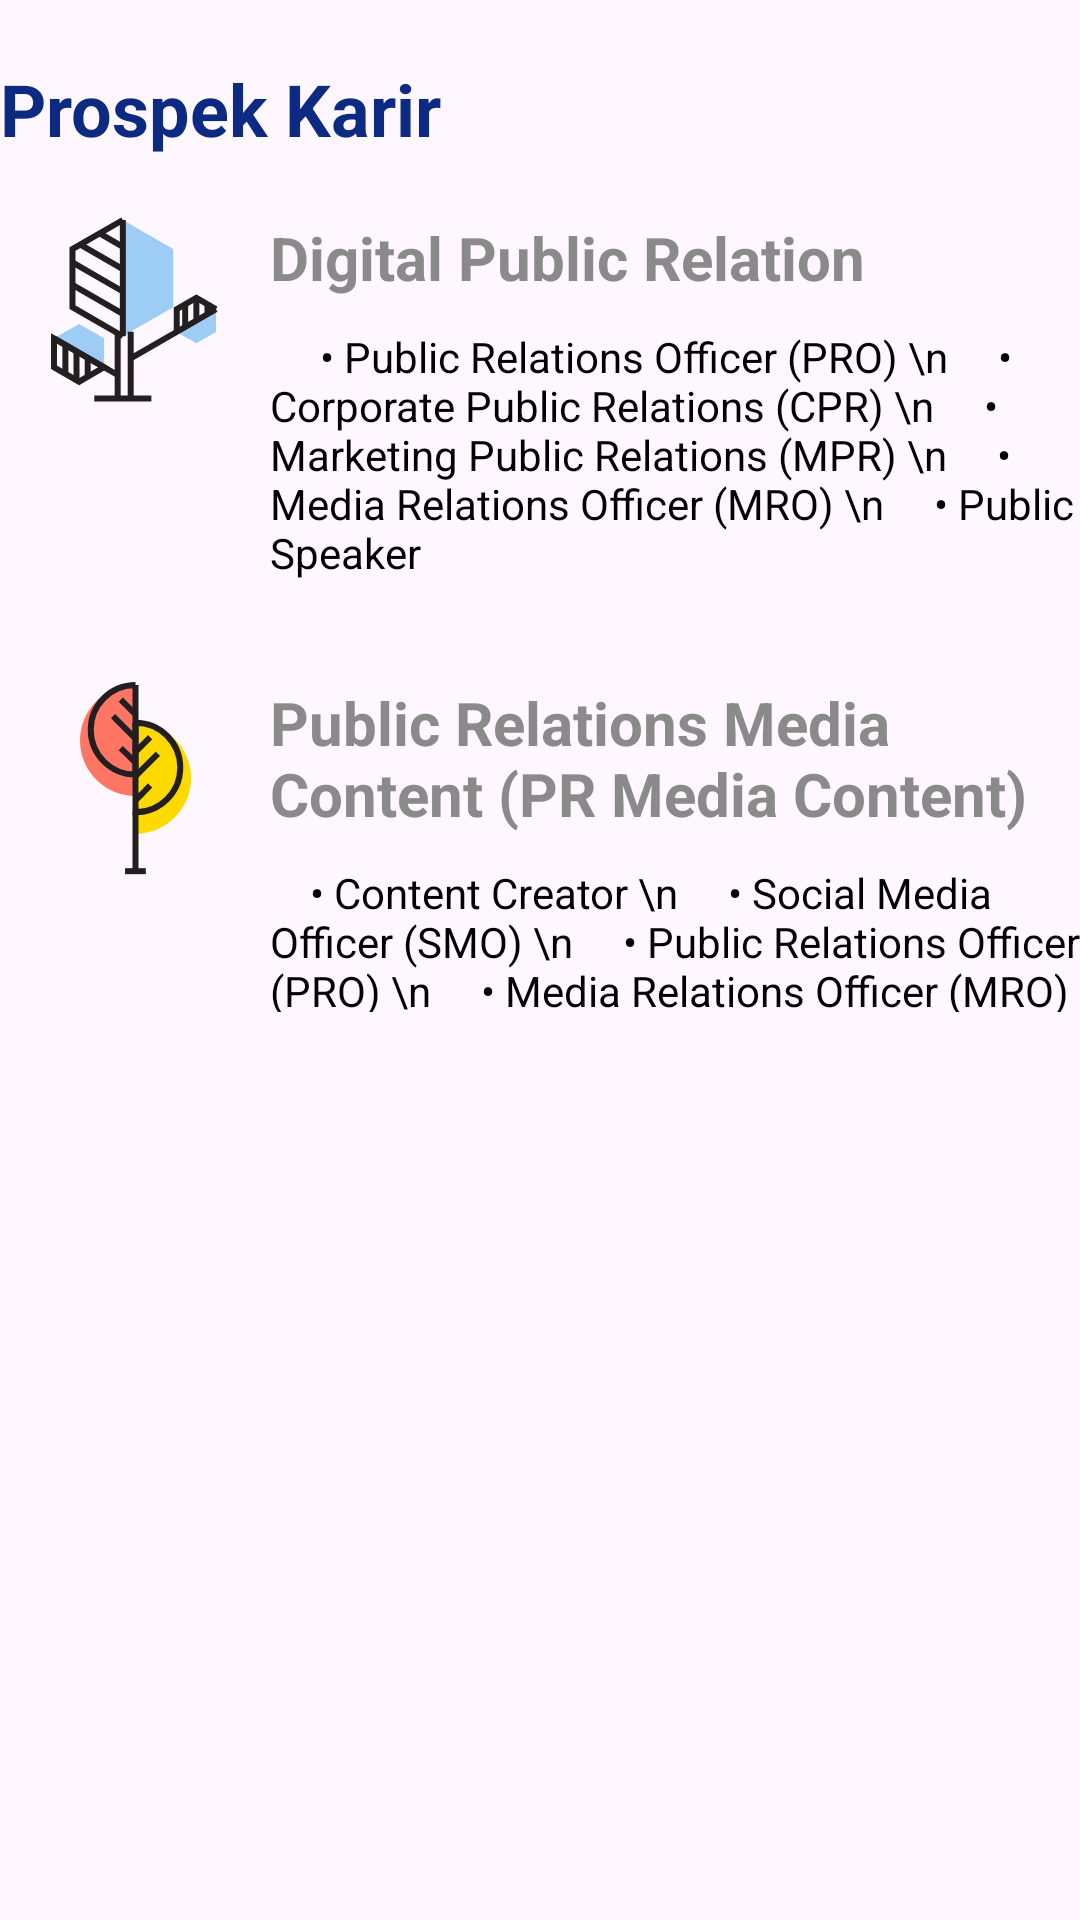

Icons on this 1080×1920 Android screen, each with the point to tap as point (x, y):
pohon: point (135, 778)
pohon biru: point (134, 309)
